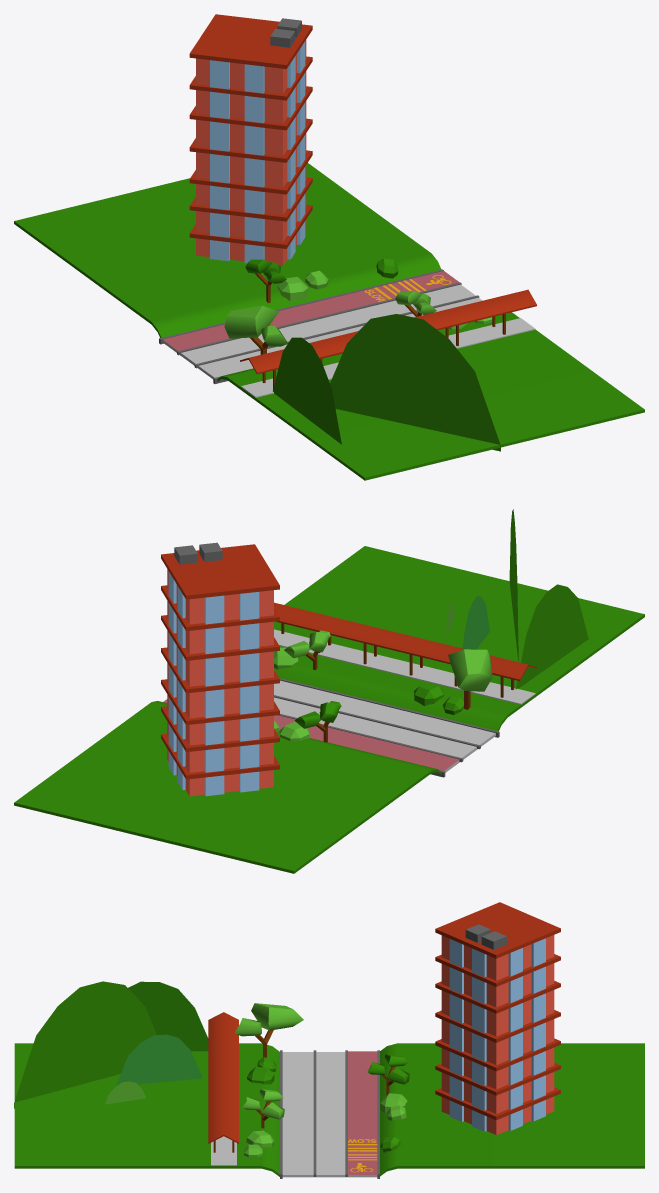
Rendered from Level 3 Chunk 5.fbx.
3 renders of one model, top to bottom at view 1: azimuth 30°, elevation 25°; view 2: azimuth 150°, elevation 25°; view 3: azimuth 270°, elevation 25°, orthographic. The views are drawn at different scales.
Parts seen in each view (by area): view 1: pCube7966, Building_B22, pCube7964, pasted__pasted__pCube5553, pCube7967, pasted__pCube5671, pCube7970, pCube7958, pCube7956, pCube7953, pCube7955, pCube7954 (+1 smaller); view 2: pCube7966, Building_B22, pCube7964, pCube7967, pCube7958, pasted__pCube5671, pCube7953, pCube7970, pCube7956, pasted__pasted__pCube5552, pasted__pasted__pCube5553, pCube7955 (+4 smaller); view 3: Building_B22, pCube7966, pCube7964, pasted__pasted__pCube5553, pCube7967, pCube7958, pCube7970, pasted__pCube5671, pasted__pasted__pCube5552, pCube7956, pCube7955, pCube7954 (+3 smaller).
Boxes of the visible parts, left/top/right/bottom form: pCube7966: left=14, top=163, right=441, bottom=337; Building_B22: left=189, top=14, right=312, bottom=265; pCube7964: left=217, top=312, right=644, bottom=480; pasted__pasted__pCube5553: left=330, top=314, right=500, bottom=451; pCube7967: left=163, top=284, right=482, bottom=379; pasted__pCube5671: left=273, top=337, right=341, bottom=444; pCube7970: left=163, top=271, right=459, bottom=350; pCube7958: left=240, top=289, right=536, bottom=374; pCube7956: left=224, top=305, right=287, bottom=354; pCube7953: left=241, top=318, right=535, bottom=397; pCube7955: left=245, top=259, right=286, bottom=303; pCube7954: left=395, top=291, right=436, bottom=316; pCube7966: left=14, top=701, right=441, bottom=873; Building_B22: left=161, top=542, right=279, bottom=796; pCube7964: left=274, top=546, right=644, bottom=731; pCube7967: left=274, top=680, right=495, bottom=772; pCube7958: left=274, top=602, right=536, bottom=681; pasted__pCube5671: left=515, top=584, right=588, bottom=689; pCube7953: left=274, top=629, right=535, bottom=704; pCube7970: left=163, top=699, right=459, bottom=770; pCube7956: left=448, top=649, right=492, bottom=709; pasted__pasted__pCube5552: left=462, top=596, right=489, bottom=649; pasted__pasted__pCube5553: left=509, top=509, right=518, bottom=661; pCube7955: left=294, top=701, right=341, bottom=742; Building_B22: left=435, top=902, right=560, bottom=1134; pCube7966: left=380, top=1043, right=644, bottom=1176; pCube7964: left=14, top=1043, right=279, bottom=1176; pasted__pasted__pCube5553: left=14, top=981, right=156, bottom=1108; pCube7967: left=282, top=1052, right=377, bottom=1177; pCube7958: left=208, top=1012, right=238, bottom=1143; pCube7970: left=347, top=1051, right=377, bottom=1174; pasted__pCube5671: left=128, top=981, right=208, bottom=1051; pasted__pasted__pCube5552: left=116, top=1034, right=202, bottom=1086; pCube7956: left=234, top=1003, right=303, bottom=1057; pCube7955: left=367, top=1054, right=409, bottom=1095; pCube7954: left=242, top=1089, right=284, bottom=1128.
Bounding box in the file's own units: 12.39 × 9.45 × 26.58.
Materials: 1 (1 with a texture image).
